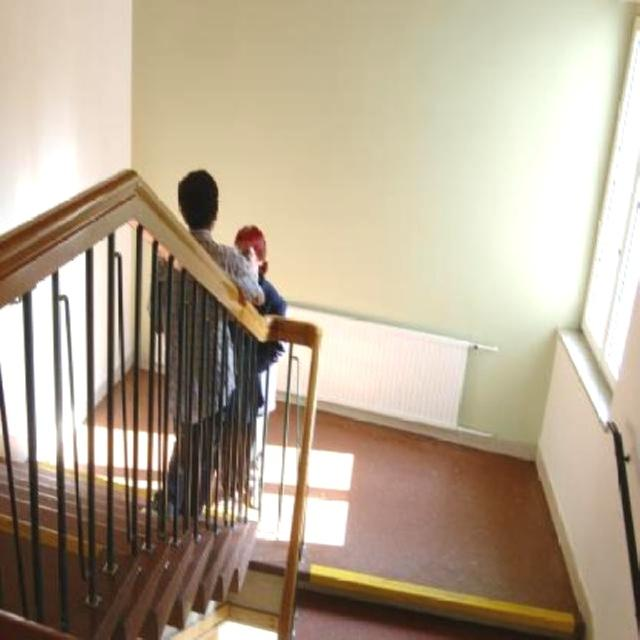stair: (0, 447, 259, 640), (289, 560, 588, 640)
